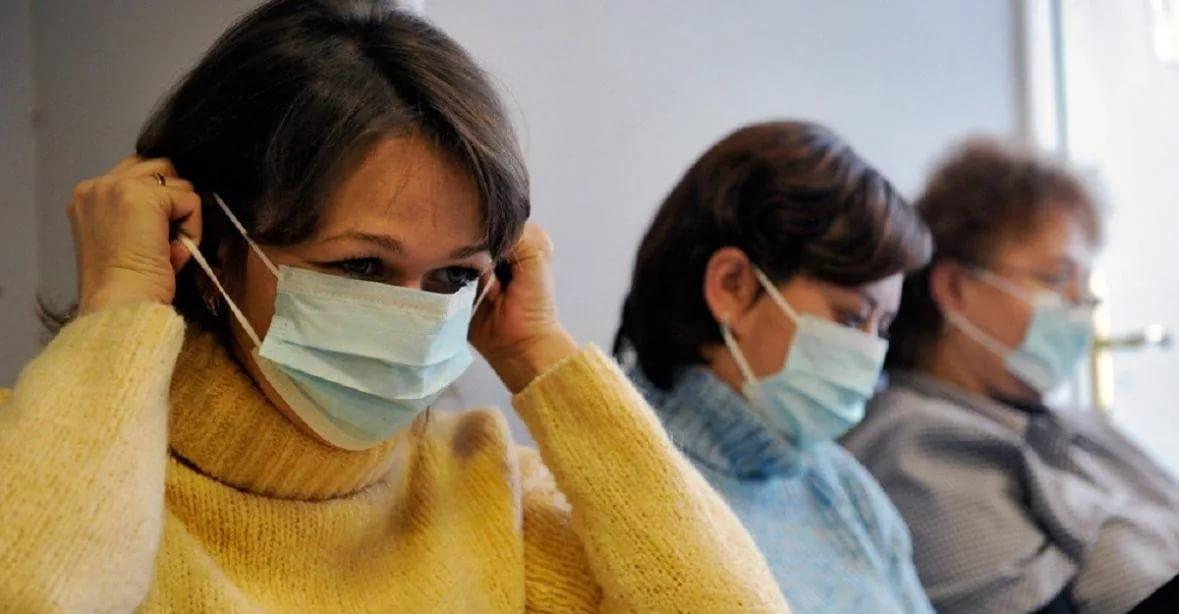mask: (252, 153, 507, 453), (716, 231, 908, 454), (964, 197, 1101, 398)
